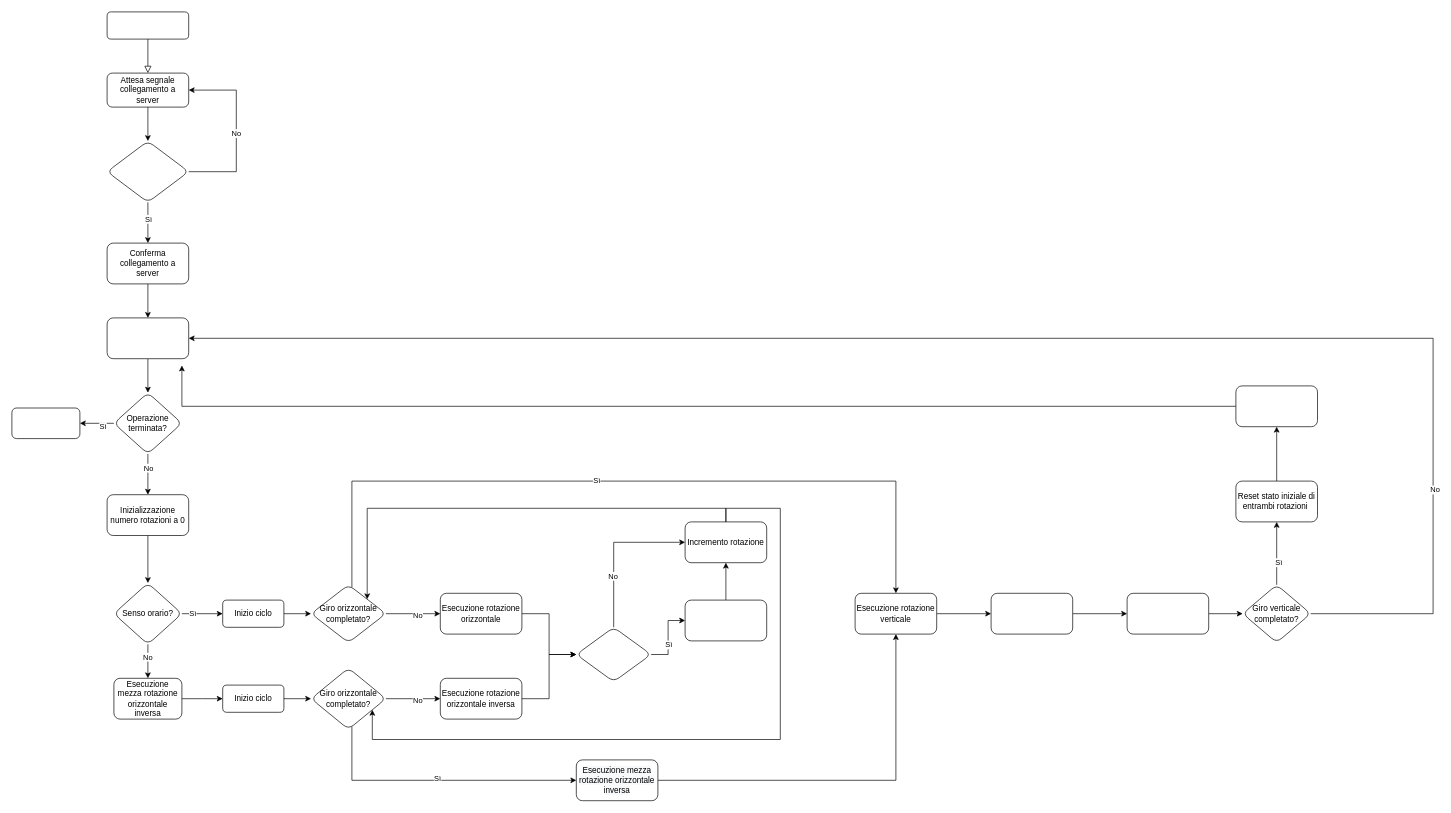
Some shapes in this 1451 by 813 pixel diagram are drawn without their labels. Each missing label, with the centre of its shape:
"Esecuzione operazione di scan" belongs at (x=147, y=338).
"Fai niente in loop" belongs at (x=45, y=423).
"Incremento rotazione verticale" belongs at (x=1031, y=613).
"Indicazione termine operazione" belongs at (x=1276, y=406).
"Inversione senso rotazione" belongs at (x=1167, y=613).
"Ritorno dati analizzati" belongs at (x=725, y=620).
"Scanner disponibile?" belongs at (x=613, y=654).
"Segnale del server recepito?" belongs at (x=147, y=171).
"Stato iniziale Arduino" belongs at (x=147, y=25).
